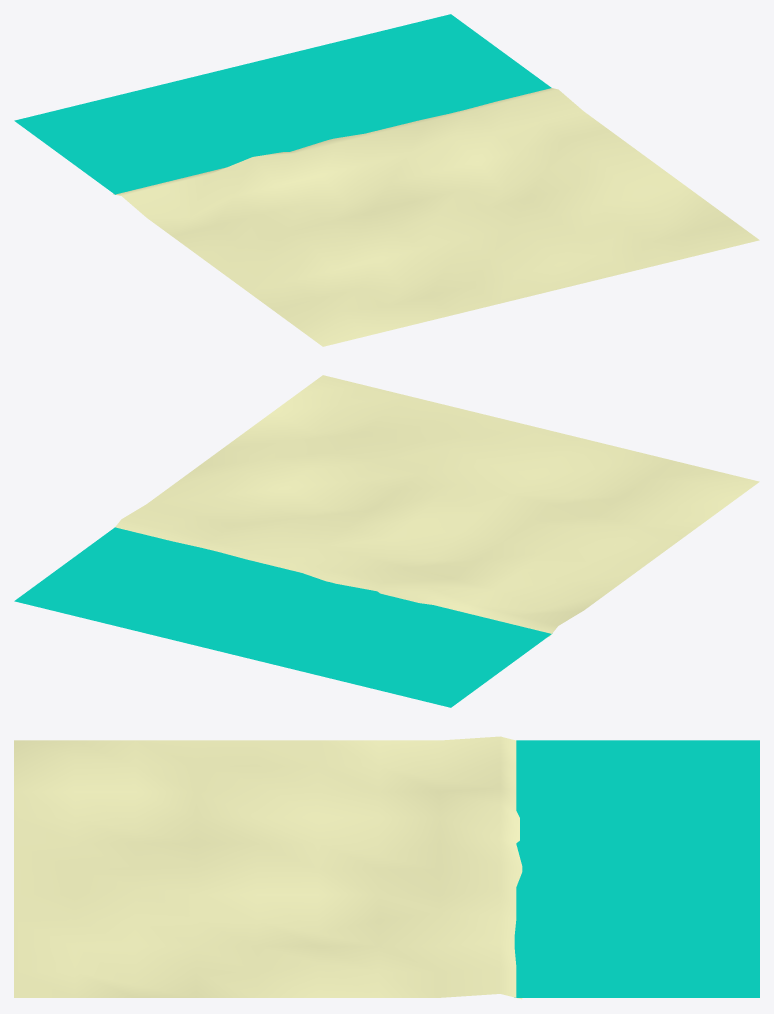
Rendered from beach_room.fbx.
The picture shows the model from 3 angles, top to bottom: view 1: azimuth 30°, elevation 25°; view 2: azimuth 150°, elevation 25°; view 3: azimuth 270°, elevation 25°; orthographic projection. The views are drawn at different scales.
Parts seen in each view (by area): view 1: beach; view 2: beach; view 3: beach.
Part boxes in pixels (left/top/right/bottom): beach: left=14, top=14, right=759, bottom=346; beach: left=14, top=375, right=759, bottom=707; beach: left=14, top=736, right=759, bottom=999.
Bounding box in the file's own units: 15.02 × 0.6906 × 18.4.
